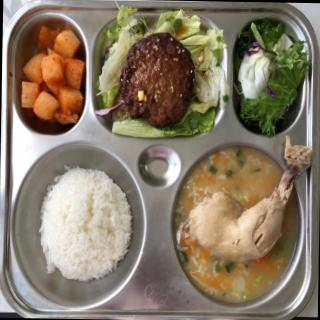Nasi: (38, 170, 131, 282)
